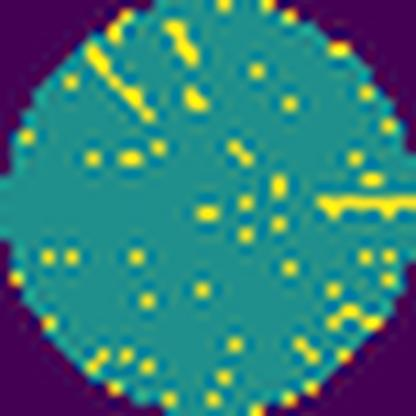Scratch: (78, 42, 160, 126), (316, 185, 416, 225)
